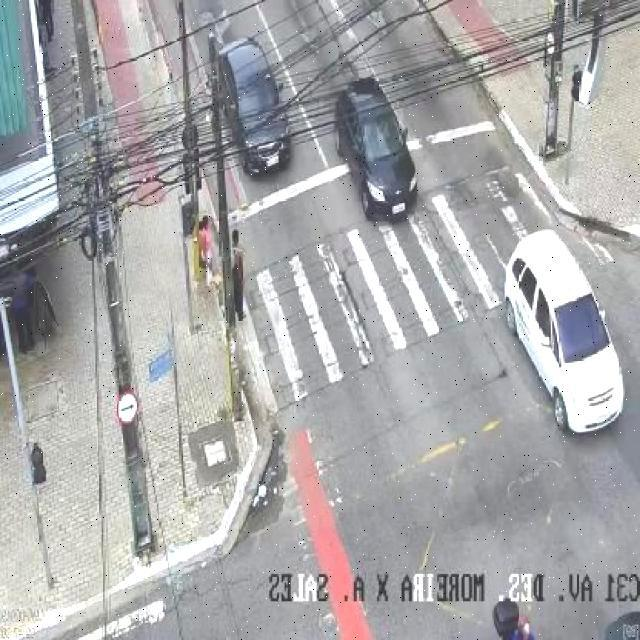Car: (505, 219, 632, 444), (199, 19, 304, 187), (336, 64, 424, 232)
